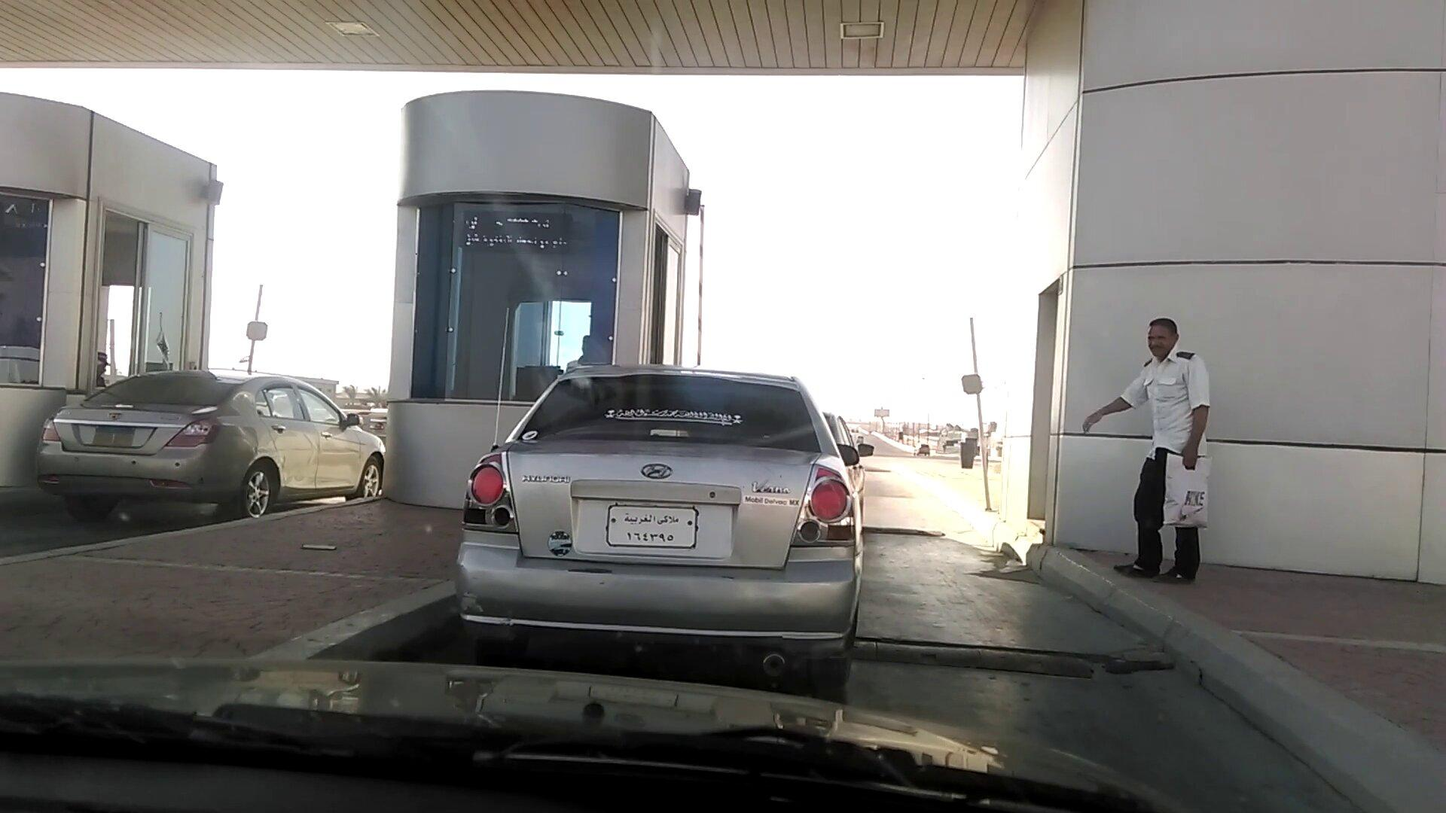Bump: (851, 632, 1101, 687)
